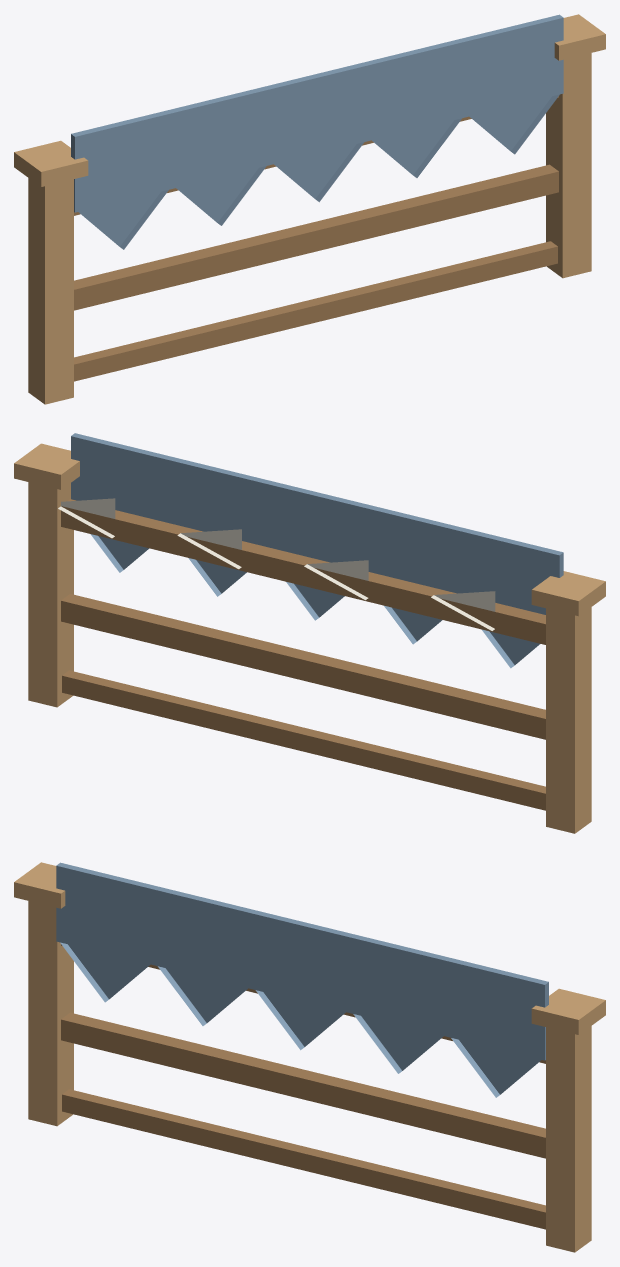
The model's file is lists-fence-panel-draped.glb.
3 views of the same model, one above another, from view 1: azimuth 30°, elevation 25°; view 2: azimuth 150°, elevation 25°; view 3: azimuth 330°, elevation 25° (orthographic).
Visible parts, largest first — view 1: lists-fence-panel-draped; view 2: lists-fence-panel-draped; view 3: lists-fence-panel-draped.
Boxes of the visible parts, x1,y1,x2,y2 form: lists-fence-panel-draped: (14,14,605,404); lists-fence-panel-draped: (14,433,605,833); lists-fence-panel-draped: (14,862,605,1252).
Size of the model in its own units: 3.12 by 1.38 by 0.2601.
